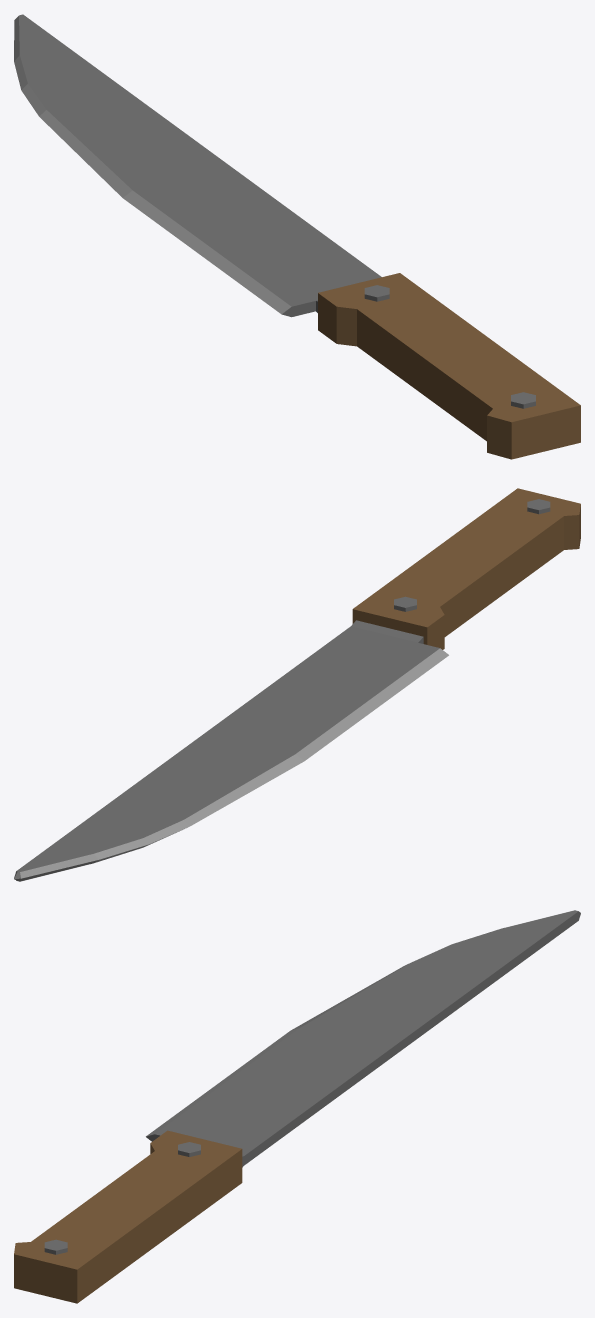
File: Knife_03.fbx
The picture shows the model from 3 angles, top to bottom: view 1: azimuth 30°, elevation 25°; view 2: azimuth 150°, elevation 25°; view 3: azimuth 330°, elevation 25°; orthographic projection. The views are drawn at different scales.
Parts seen in each view (by area): view 1: Knife_03; view 2: Knife_03; view 3: Knife_03.
Boxes of the visible parts, x1=… form: Knife_03: x1=14, y1=14, x2=580, y2=459; Knife_03: x1=14, y1=488, x2=580, y2=881; Knife_03: x1=14, y1=910, x2=580, y2=1303.
Size of the model in its own units: 3.27 by 1.28 by 28.14.
